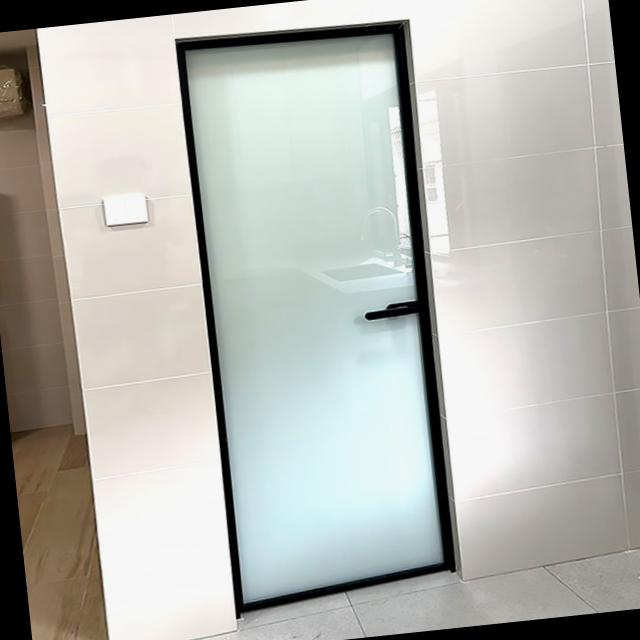door: (177, 19, 462, 618)
